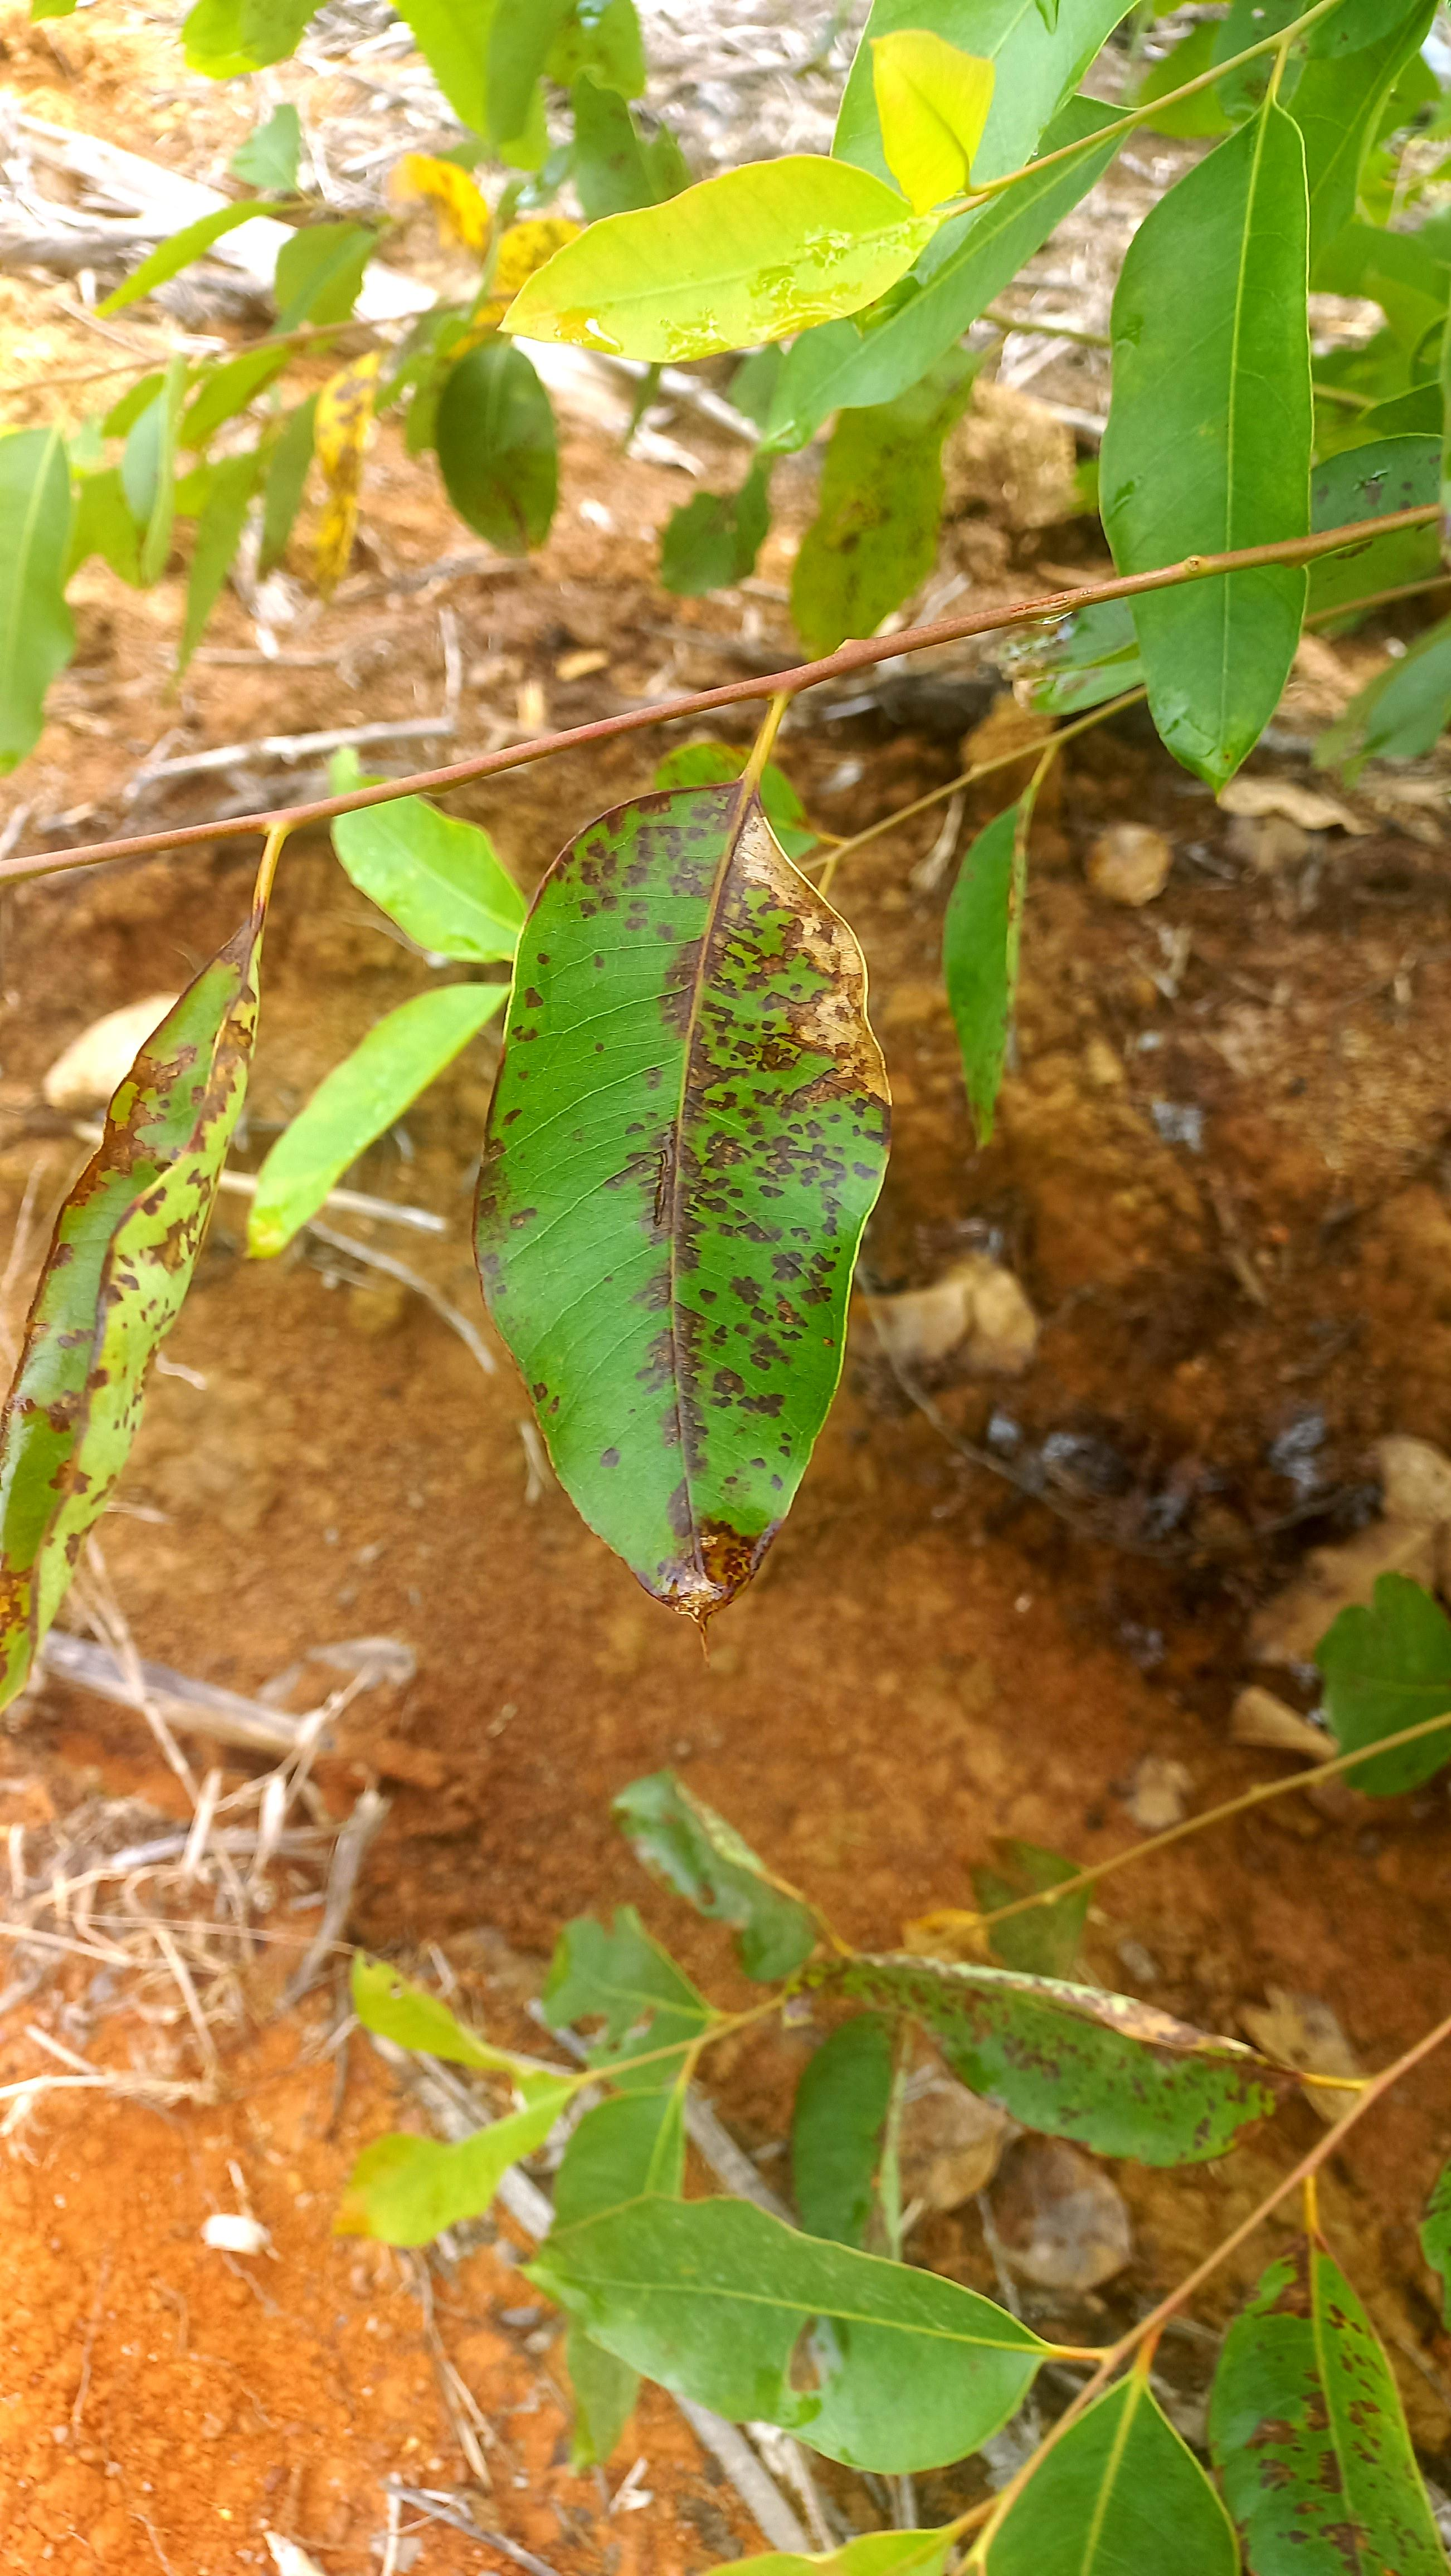Xanthomonas: (497, 770, 879, 1622), (12, 964, 274, 1698), (832, 1928, 1294, 2169), (1200, 2235, 1451, 2576), (251, 352, 403, 607)
